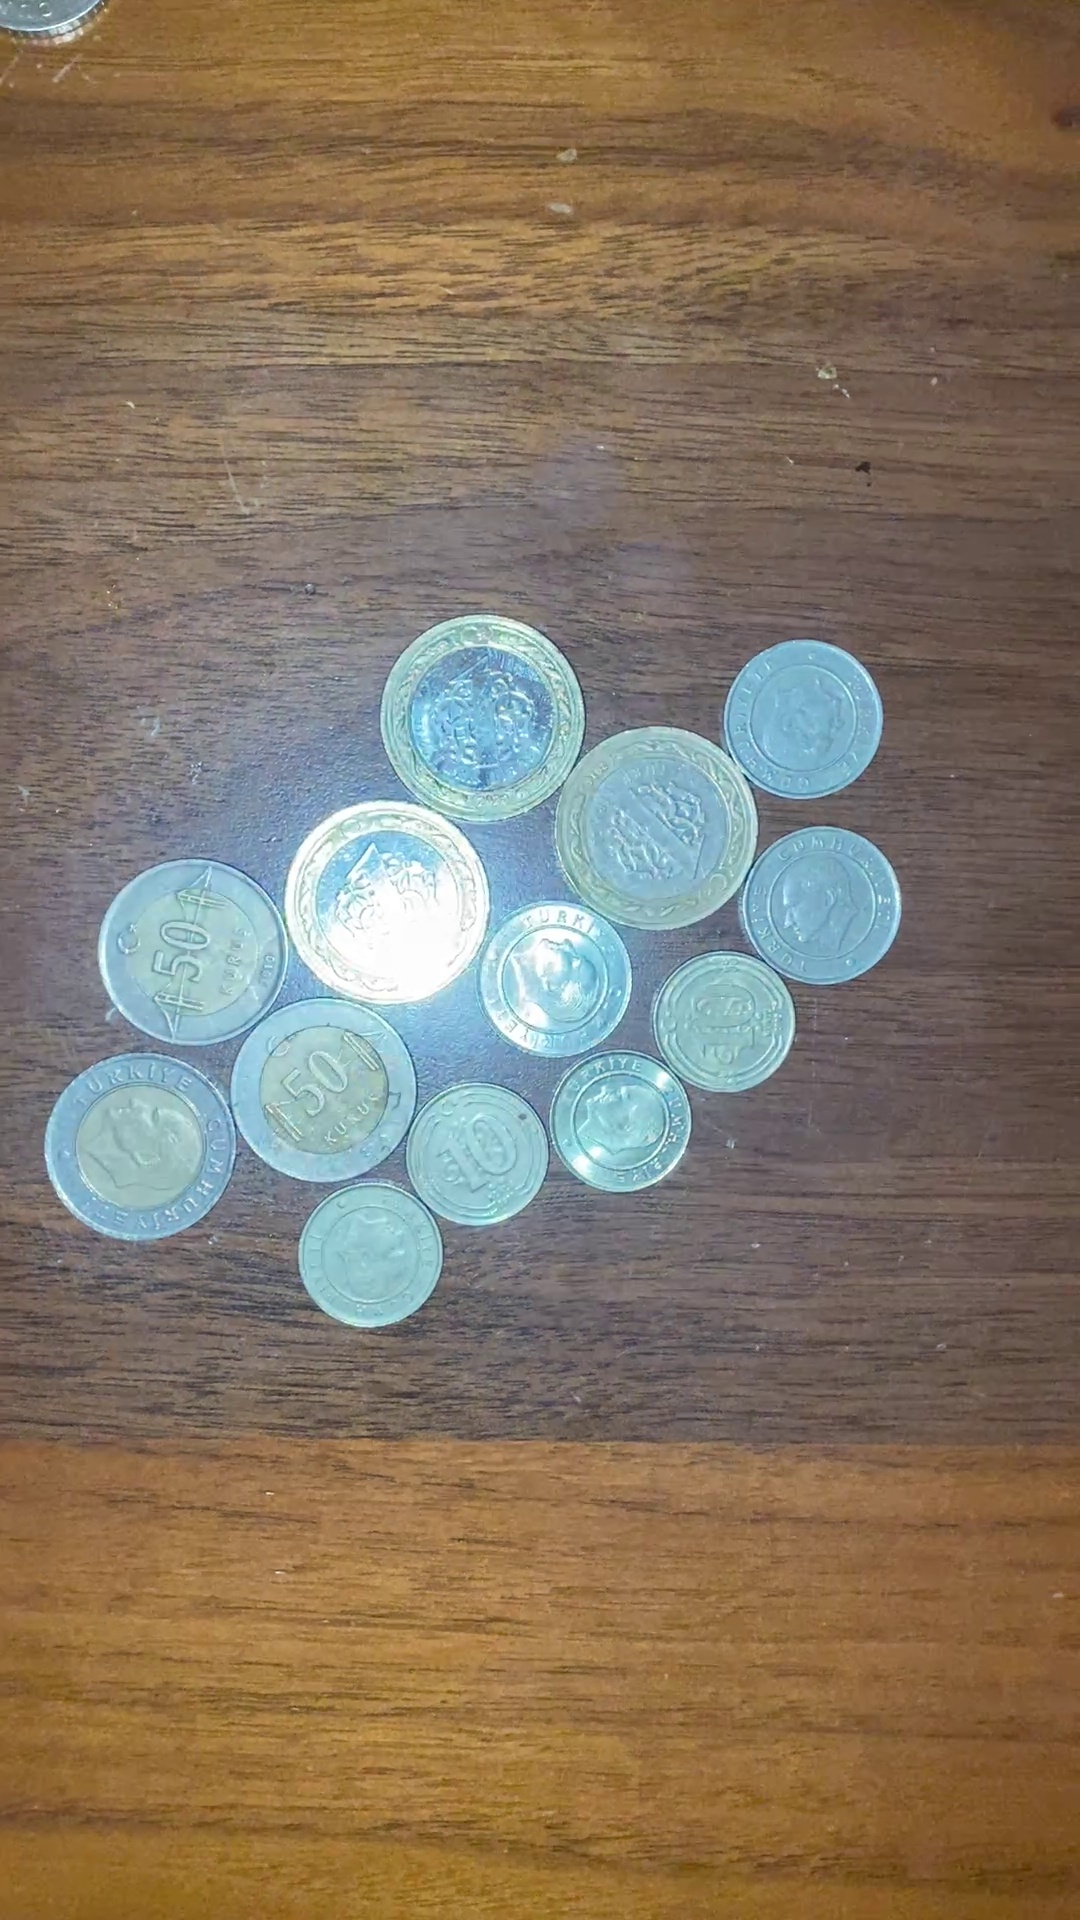1_tl: (382, 611, 583, 832), (555, 723, 761, 936), (284, 802, 491, 1004)
